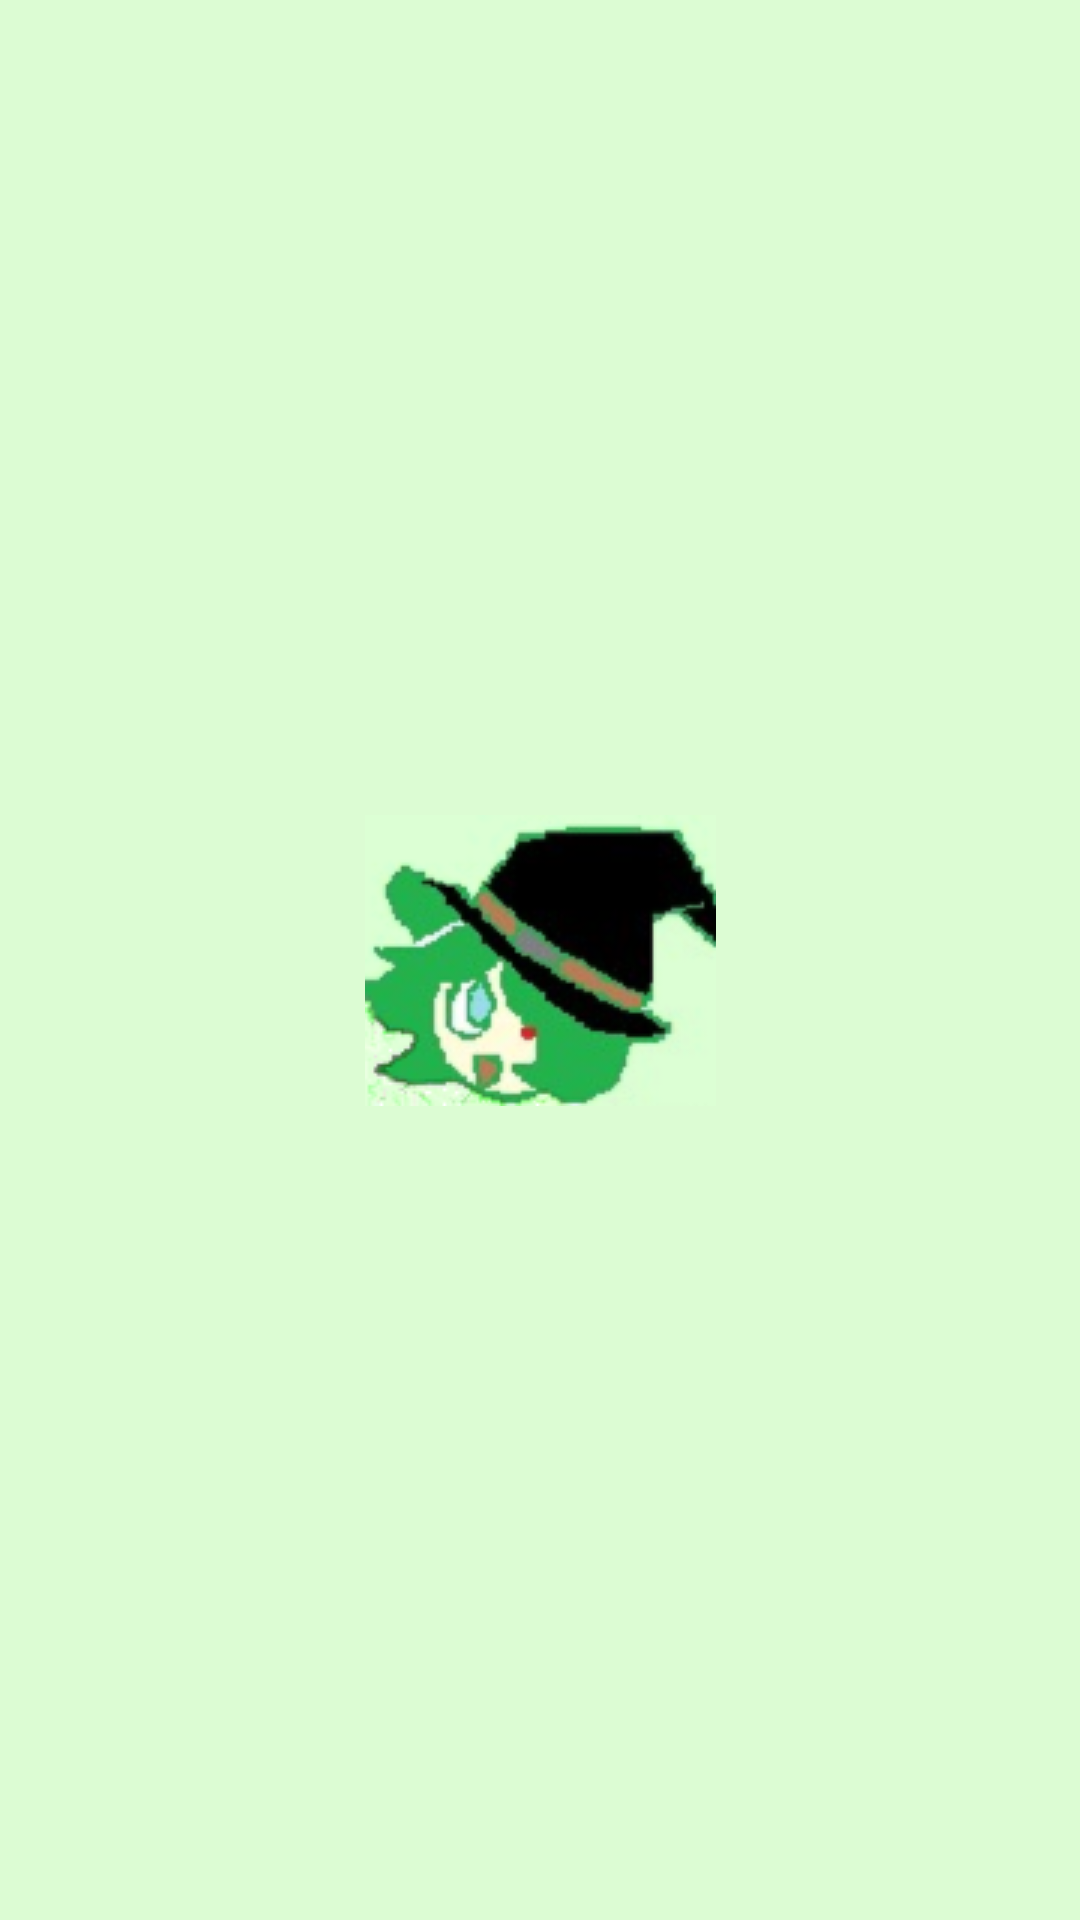

Where icons sit on this 1080×1920 app screen, as [x1,y1,x2,y2]:
brujita: [365,824,716,1106]
